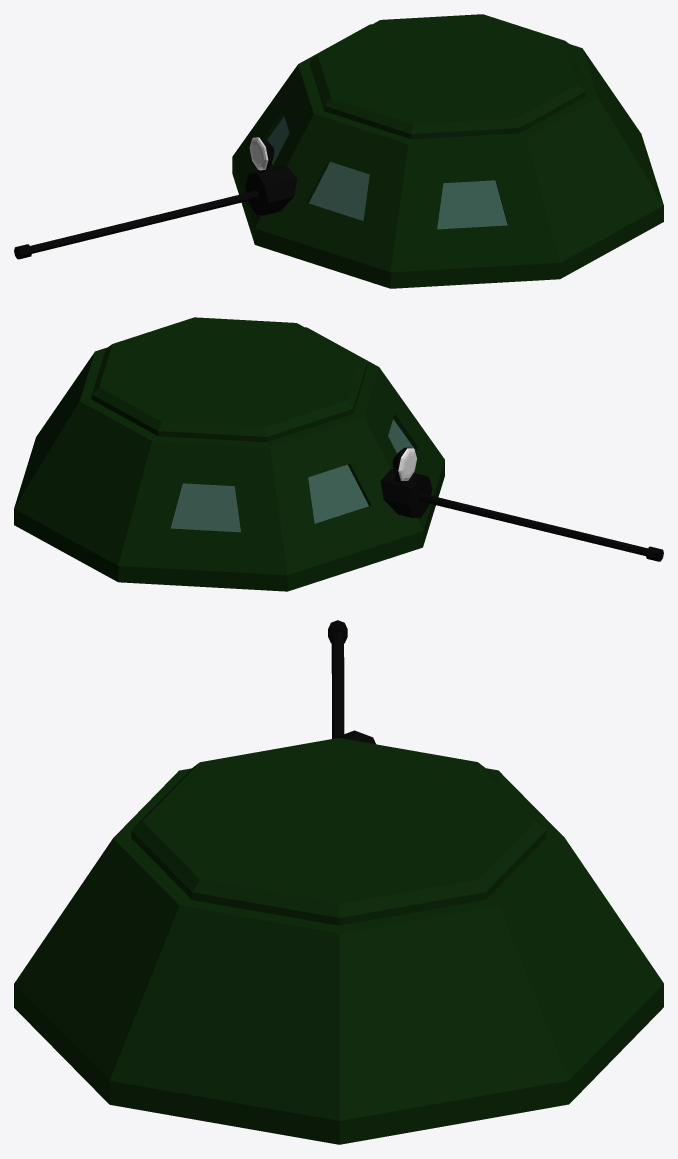
Rendered from Simba_Turret.fbx.
The picture shows the model from 3 angles, top to bottom: view 1: azimuth 30°, elevation 25°; view 2: azimuth 150°, elevation 25°; view 3: azimuth 270°, elevation 25°; orthographic projection. The views are drawn at different scales.
Parts seen in each view (by area): view 1: Simba_Turret; view 2: Simba_Turret; view 3: Simba_Turret.
Part boxes in pixels (x1,y1,x2,y2): Simba_Turret: (14,14,663,288); Simba_Turret: (14,317,663,591); Simba_Turret: (14,620,663,1144).
Size of the model in its own units: 249 by 48.93 by 154.
